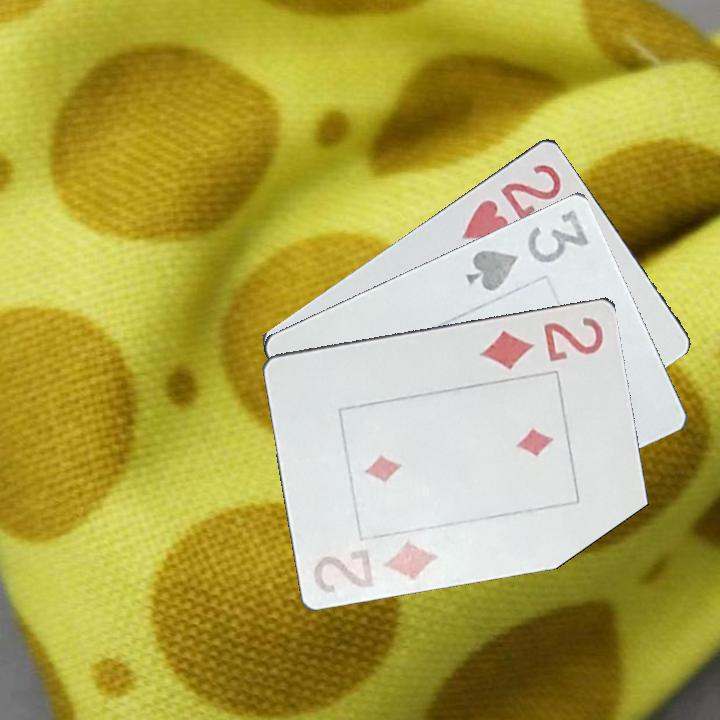2d: (310, 533, 442, 600), (476, 313, 607, 372)
2h: (457, 159, 565, 242)
3s: (462, 205, 592, 294)
